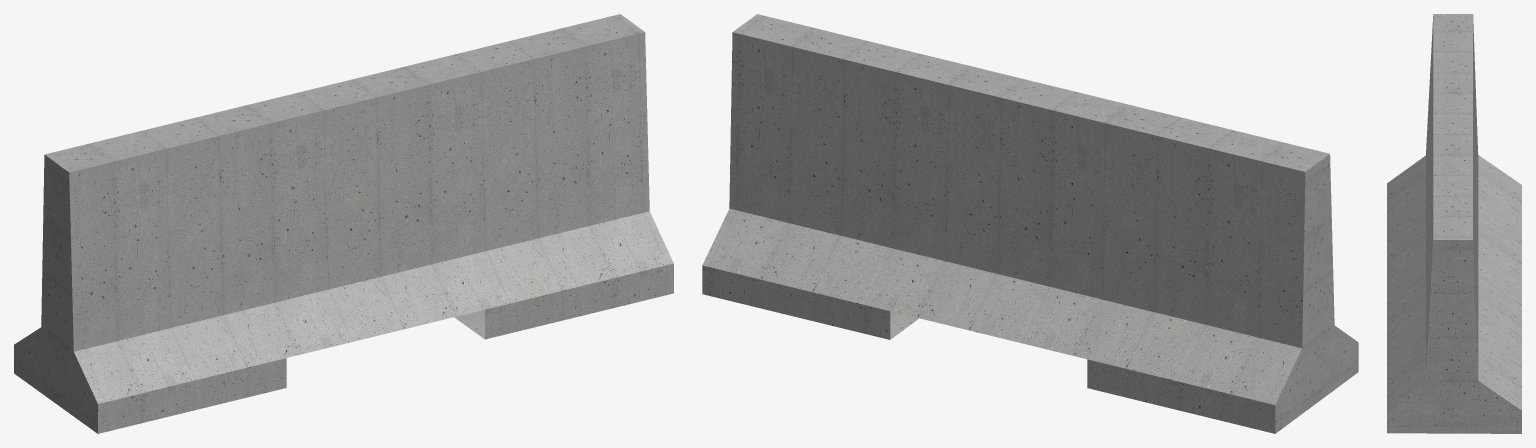
Rendered from roadbarrier_01.dae.
3 renders of one model, left to right at view 1: azimuth 30°, elevation 25°; view 2: azimuth 150°, elevation 25°; view 3: azimuth 270°, elevation 25°, orthographic. The views are drawn at different scales.
Parts seen in each view (by area): view 1: BarrierOne200; view 2: BarrierOne200; view 3: BarrierOne200.
Part boxes in pixels (box(x1,y1,x2,y2)): BarrierOne200: box(14, 14, 673, 433); BarrierOne200: box(702, 14, 1358, 433); BarrierOne200: box(1387, 14, 1521, 433).
Size of what is drawn, in the model's own units: 12.01 by 3.02 by 4.81.
1 material, 1 textured.
